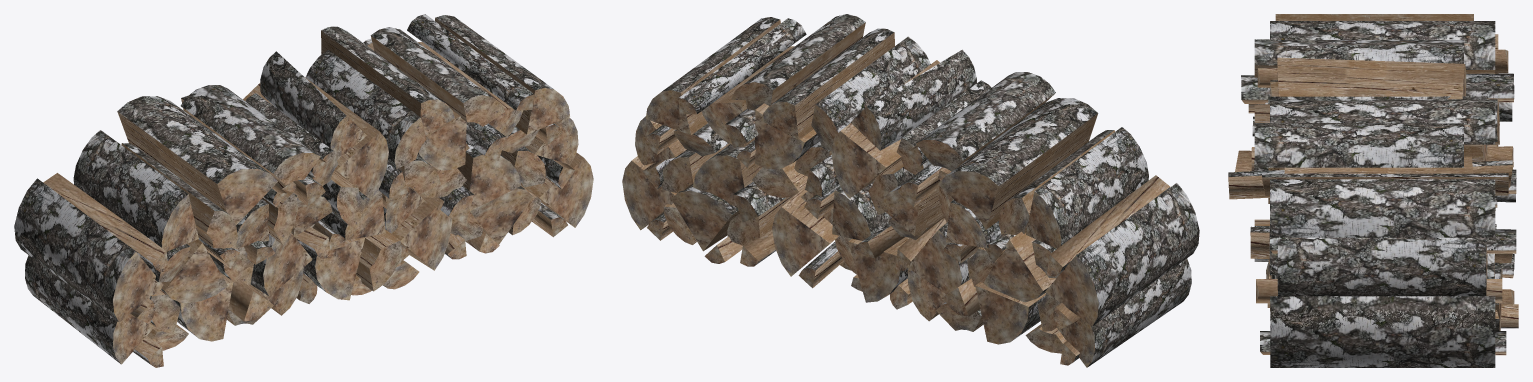
Rendered from masonry_of_firewood.glb.
3 views of the same model, side by side, from view 1: azimuth 30°, elevation 25°; view 2: azimuth 150°, elevation 25°; view 3: azimuth 270°, elevation 25° (orthographic). The views are drawn at different scales.
Visible parts, largest first — view 1: Line053_07 - Default_0; view 2: Line053_07 - Default_0; view 3: Line053_07 - Default_0.
Boxes of the visible parts, x1,y1,x2,y2 form: Line053_07 - Default_0: (14, 14, 593, 367); Line053_07 - Default_0: (622, 14, 1199, 367); Line053_07 - Default_0: (1228, 14, 1518, 367).
Bounding box in the file's own units: 834 × 327 × 388.
1 material, 1 textured.
